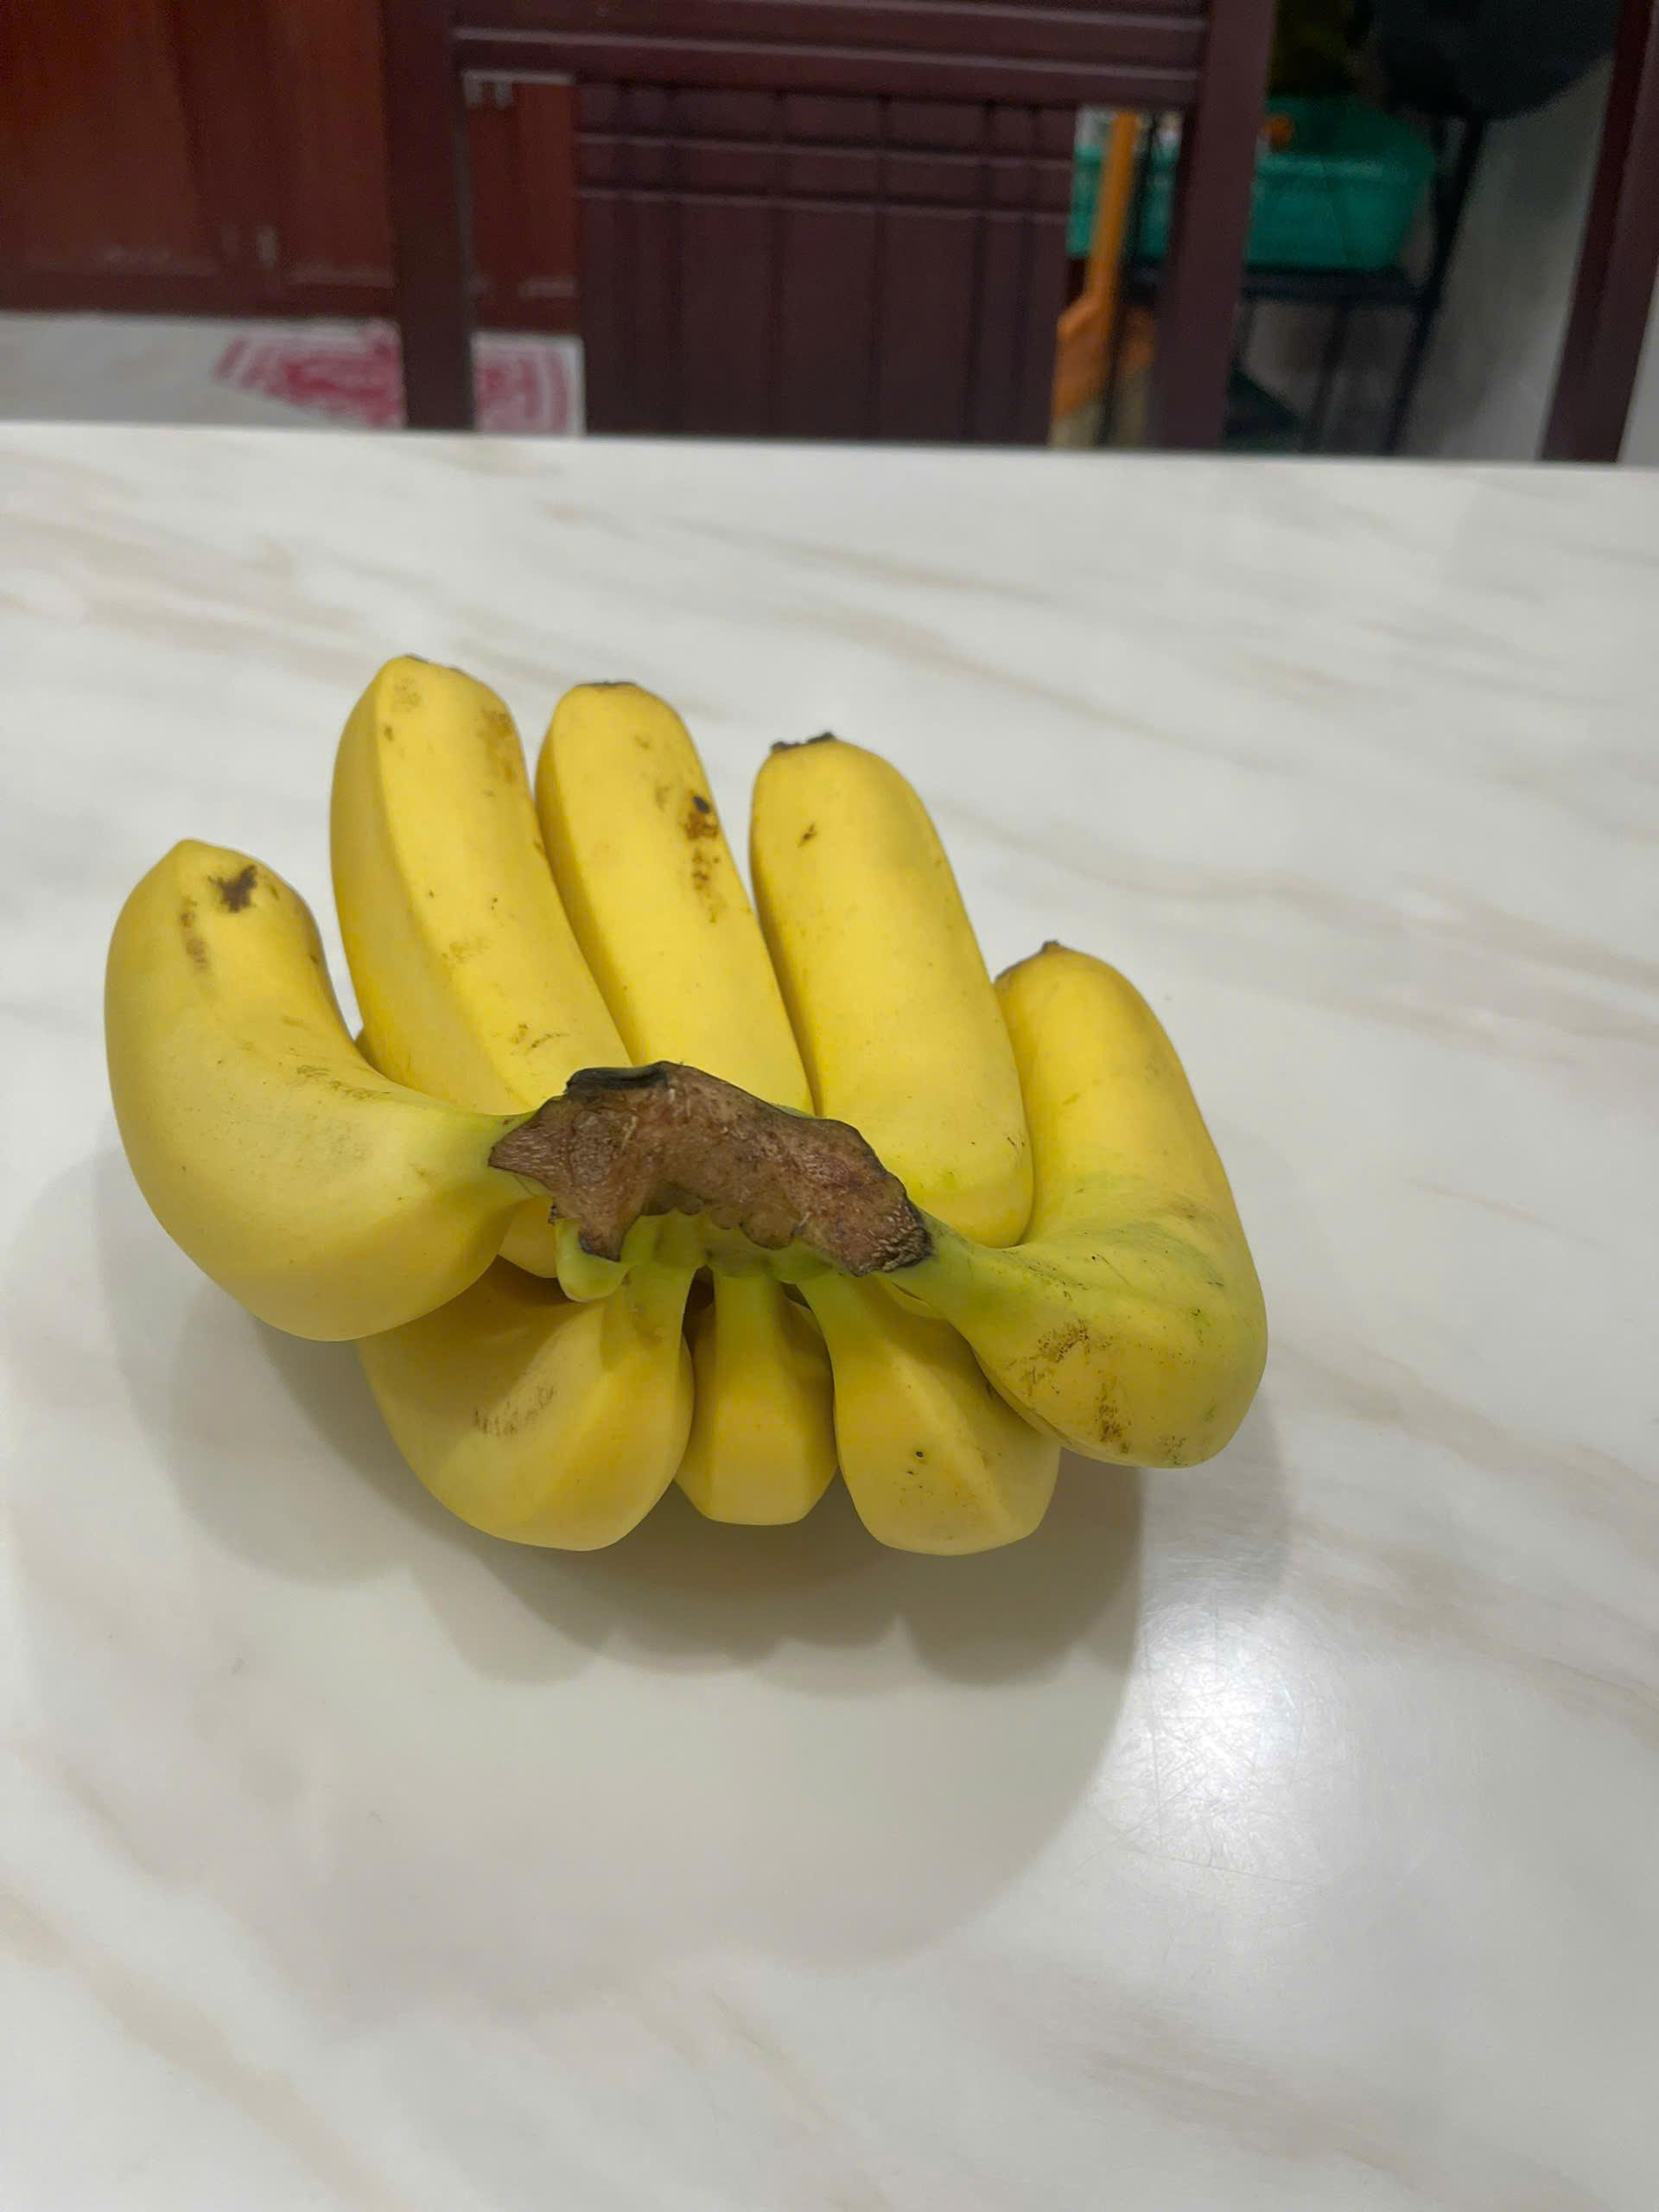banana: (92, 594, 1312, 1641)
